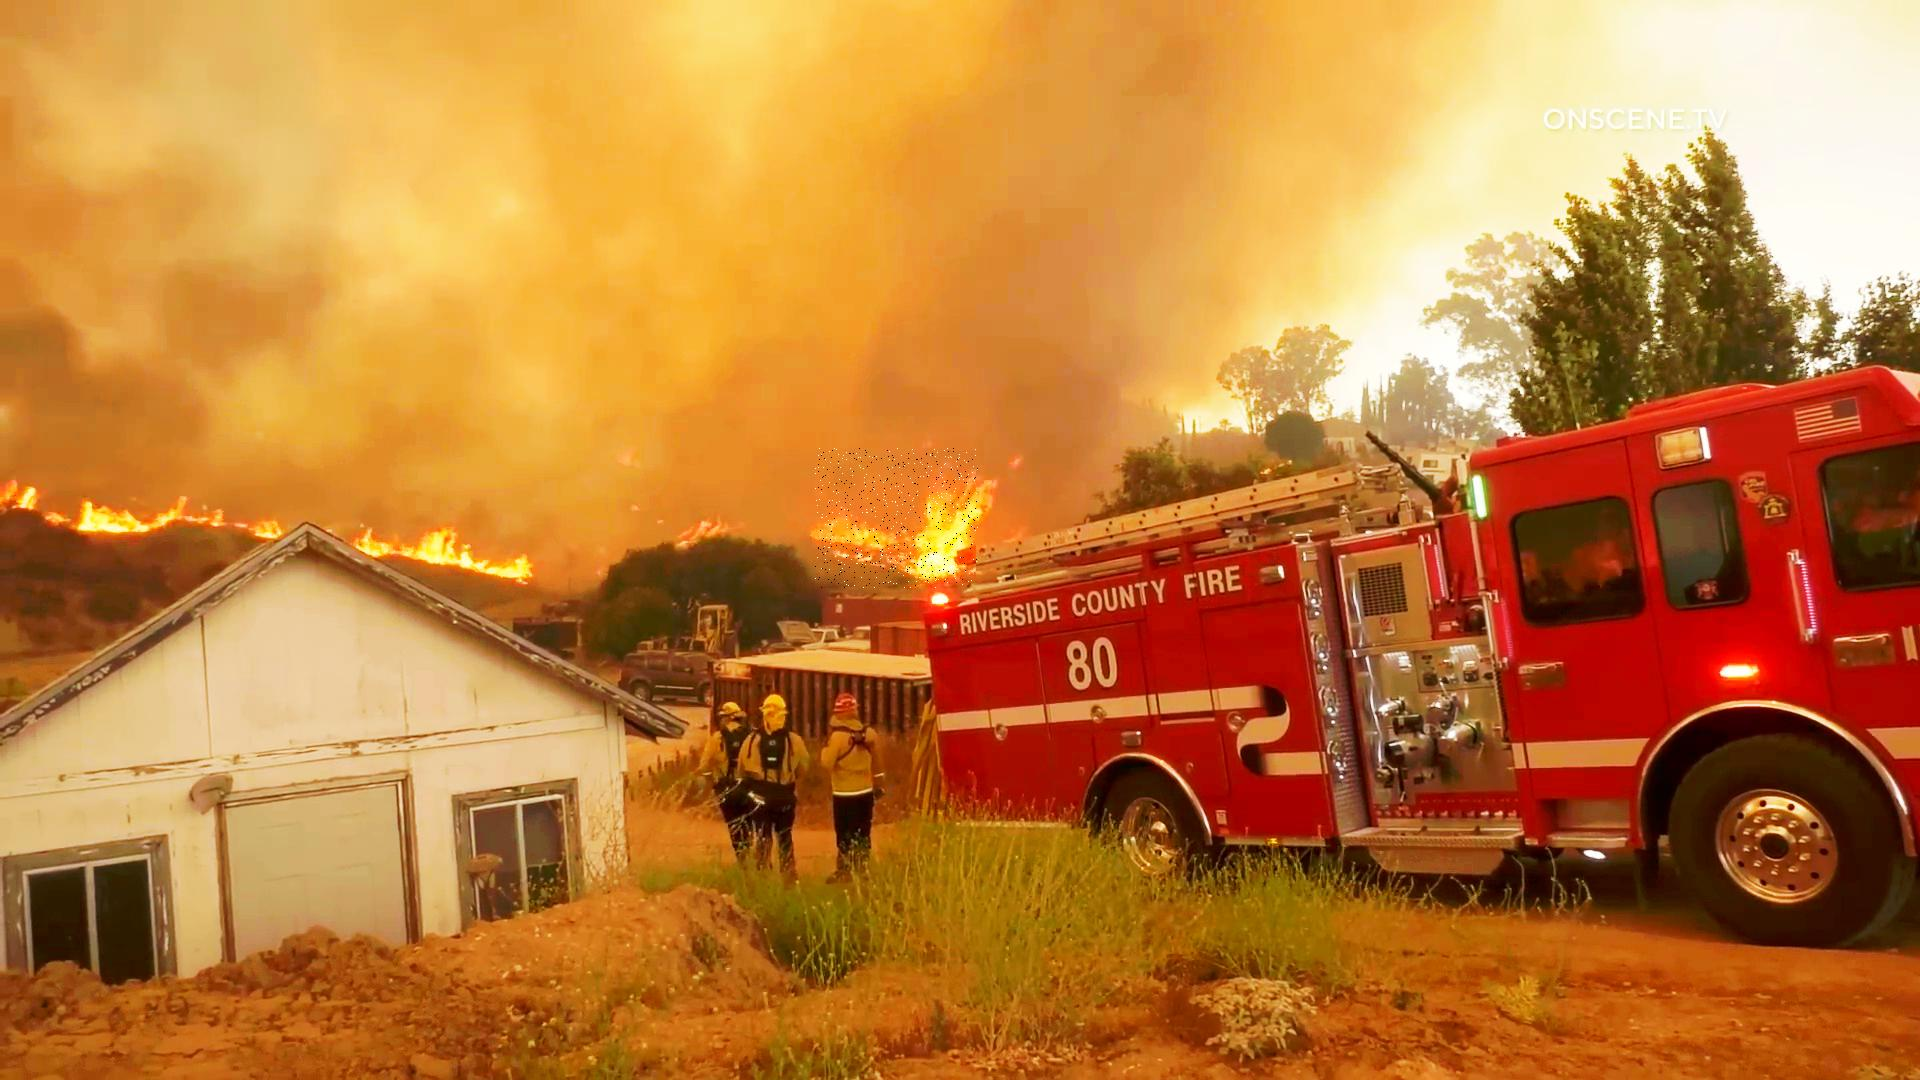fire: (816, 448, 978, 588)
